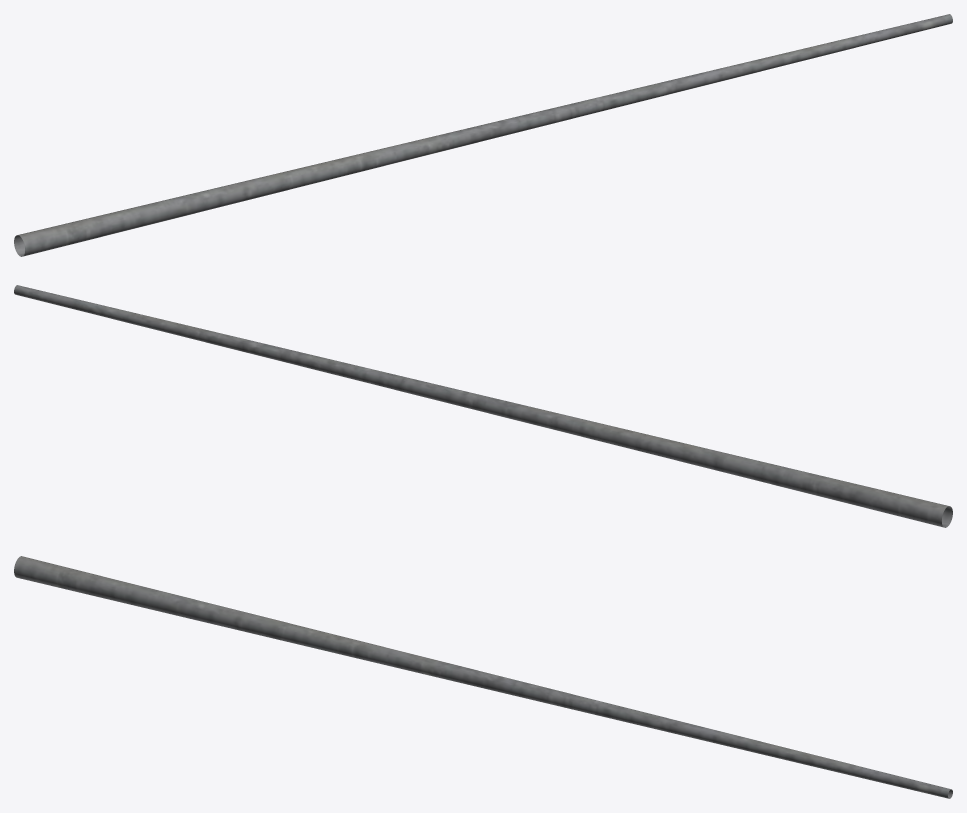
Rendered from armLevel4-v1-galvanised.glb.
3 views of the same model, one above another, from view 1: azimuth 30°, elevation 25°; view 2: azimuth 150°, elevation 25°; view 3: azimuth 330°, elevation 25° (orthographic).
Parts seen in each view (by area): view 1: armLevel4-v1-galvanised; view 2: armLevel4-v1-galvanised; view 3: armLevel4-v1-galvanised.
Part boxes in pixels (x1,y1,x2,y2): armLevel4-v1-galvanised: (14, 14, 952, 256); armLevel4-v1-galvanised: (14, 285, 952, 527); armLevel4-v1-galvanised: (14, 556, 952, 798).
Bounding box in the file's own units: 10.67 × 0.2223 × 0.2223.
Materials: 1 (1 with a texture image).
